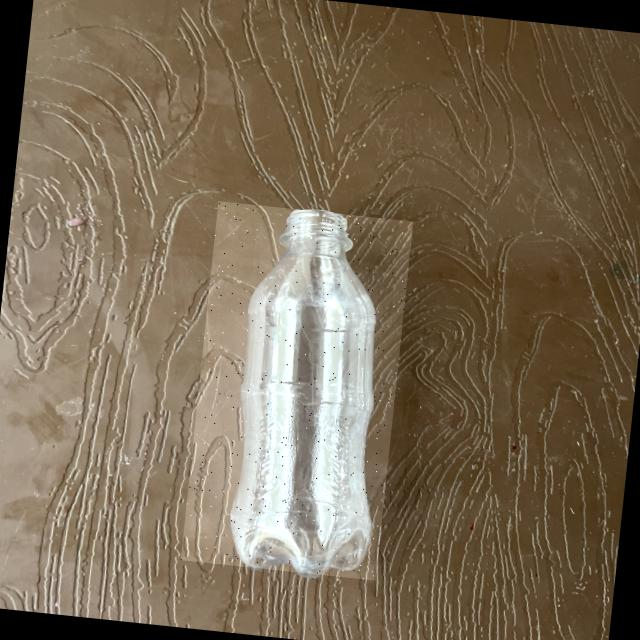PET_ClearBottle: (179, 200, 412, 581)
